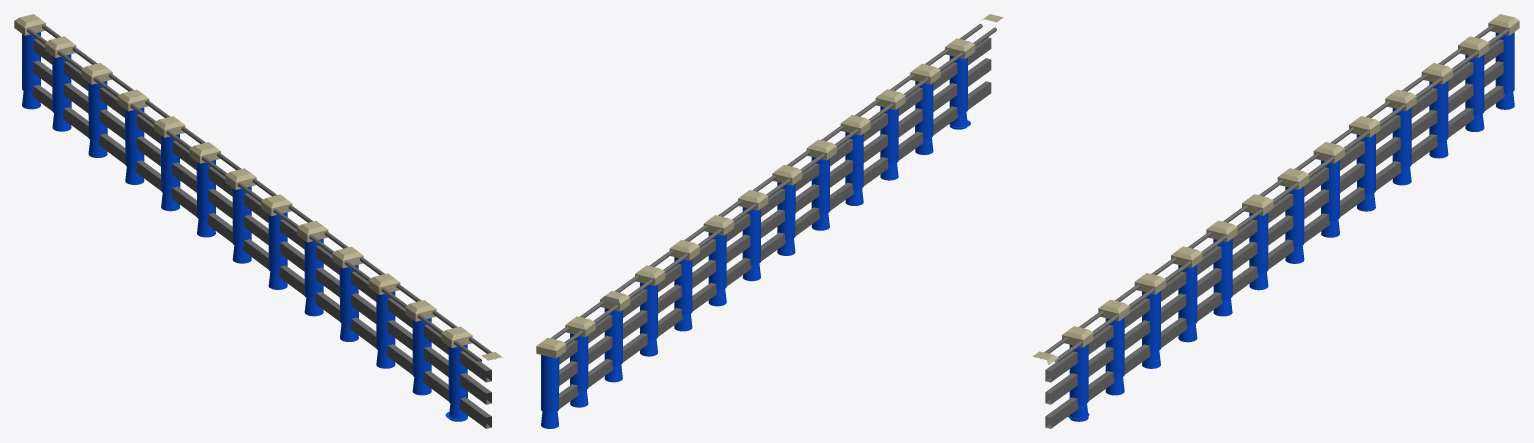
Rendered from Torres 3 Barrera.fbx.
The picture shows the model from 3 angles, left to right: view 1: azimuth 30°, elevation 25°; view 2: azimuth 150°, elevation 25°; view 3: azimuth 330°, elevation 25°; orthographic projection. The views are drawn at different scales.
Parts seen in each view (by area): view 1: Cylinder.012; view 2: Cylinder.012; view 3: Cylinder.012.
Boxes of the visible parts, left/top/right/bottom form: Cylinder.012: left=14, top=14, right=502, bottom=428; Cylinder.012: left=536, top=14, right=1003, bottom=428; Cylinder.012: left=1032, top=14, right=1519, bottom=428.
Bounding box in the file's own units: 8.47 × 33.62 × 330.
